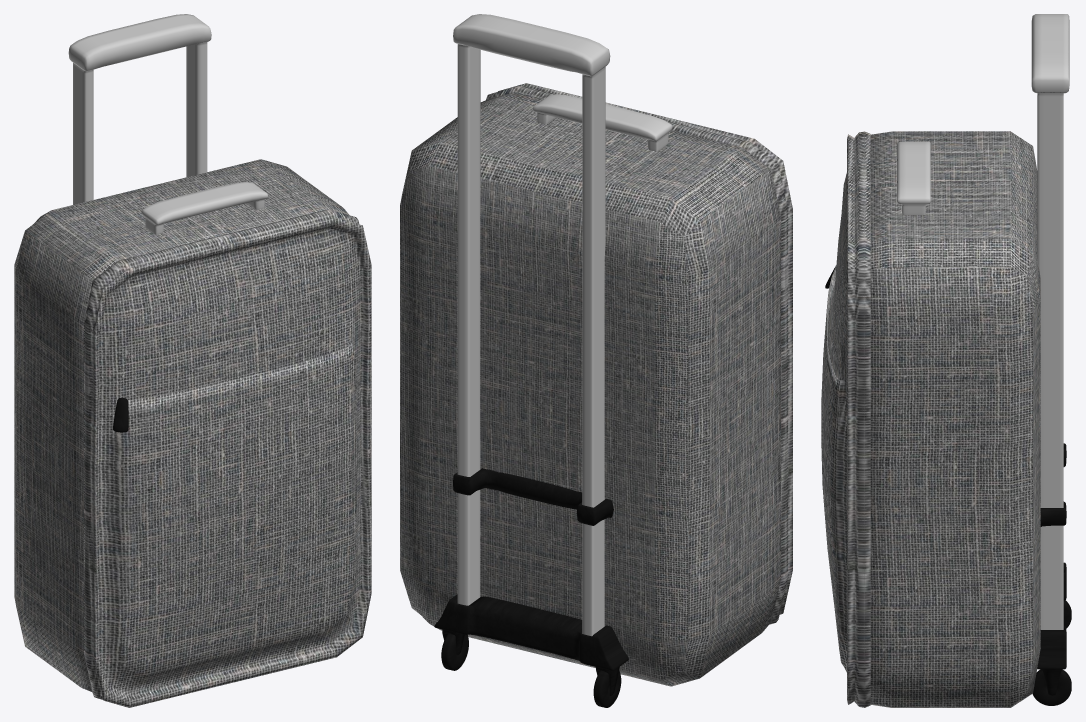
Rendered from suitcase.fbx.
3 renders of one model, left to right at view 1: azimuth 30°, elevation 25°; view 2: azimuth 150°, elevation 25°; view 3: azimuth 270°, elevation 25°, orthographic. The views are drawn at different scales.
Visible parts, largest first — view 1: Suitcase front (exterior), Suitcase (exterior), Retractable Handle, suitcase_back_handle_texture, Suitcase Handle; view 2: Suitcase (exterior), Retractable Handle, Suitcase front (exterior), suitcase_back_handle_texture, Suitcase Handle, Wheels.001; view 3: Suitcase (exterior), Suitcase front (exterior), Retractable Handle, suitcase_back_handle_texture, Suitcase Handle, Wheels.001.
Part boxes in pixels (x1,y1,x2,y2): Suitcase front (exterior): [84, 209, 371, 707]; Suitcase (exterior): [14, 159, 349, 691]; Retractable Handle: [73, 42, 207, 204]; suitcase_back_handle_texture: [68, 14, 211, 71]; Suitcase Handle: [141, 182, 268, 234]; Suitcase (exterior): [400, 92, 780, 686]; Retractable Handle: [434, 44, 628, 695]; Suitcase front (exterior): [486, 83, 792, 624]; suitcase_back_handle_texture: [453, 14, 610, 76]; Suitcase Handle: [533, 94, 672, 151]; Wheels.001: [441, 633, 621, 707]; Suitcase (exterior): [870, 131, 1040, 707]; Suitcase front (exterior): [821, 131, 870, 707]; Retractable Handle: [1037, 93, 1066, 695]; suitcase_back_handle_texture: [1031, 14, 1069, 93]; Suitcase Handle: [897, 141, 930, 214]; Wheels.001: [1032, 600, 1071, 705].
Size of the model in its own units: 2 by 4.07 by 1.47.
